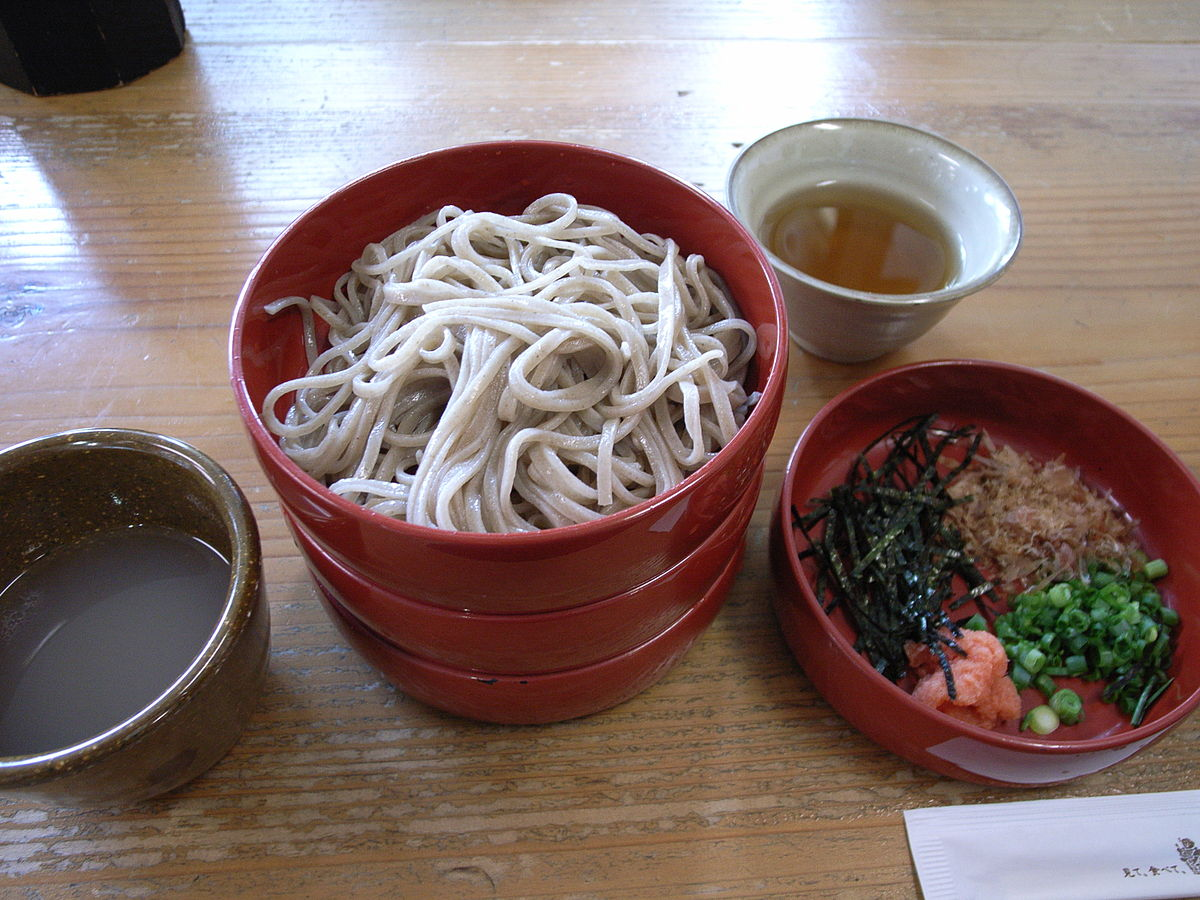Soba: (245, 189, 782, 557)
